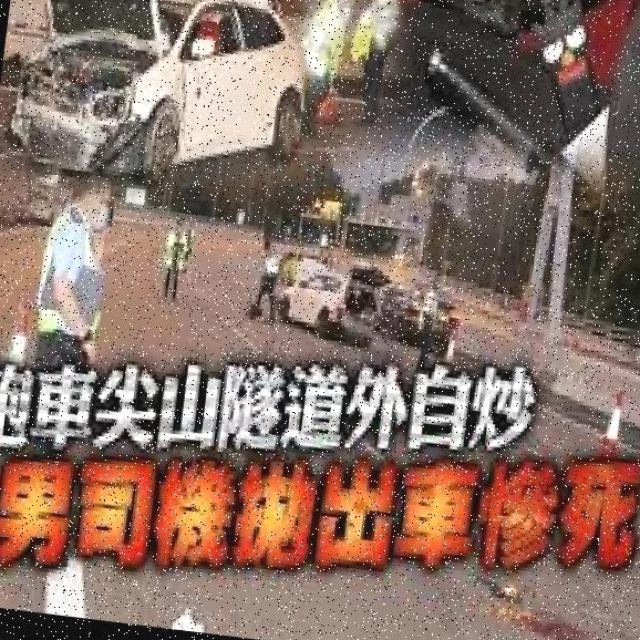accident: (296, 263, 398, 350)
